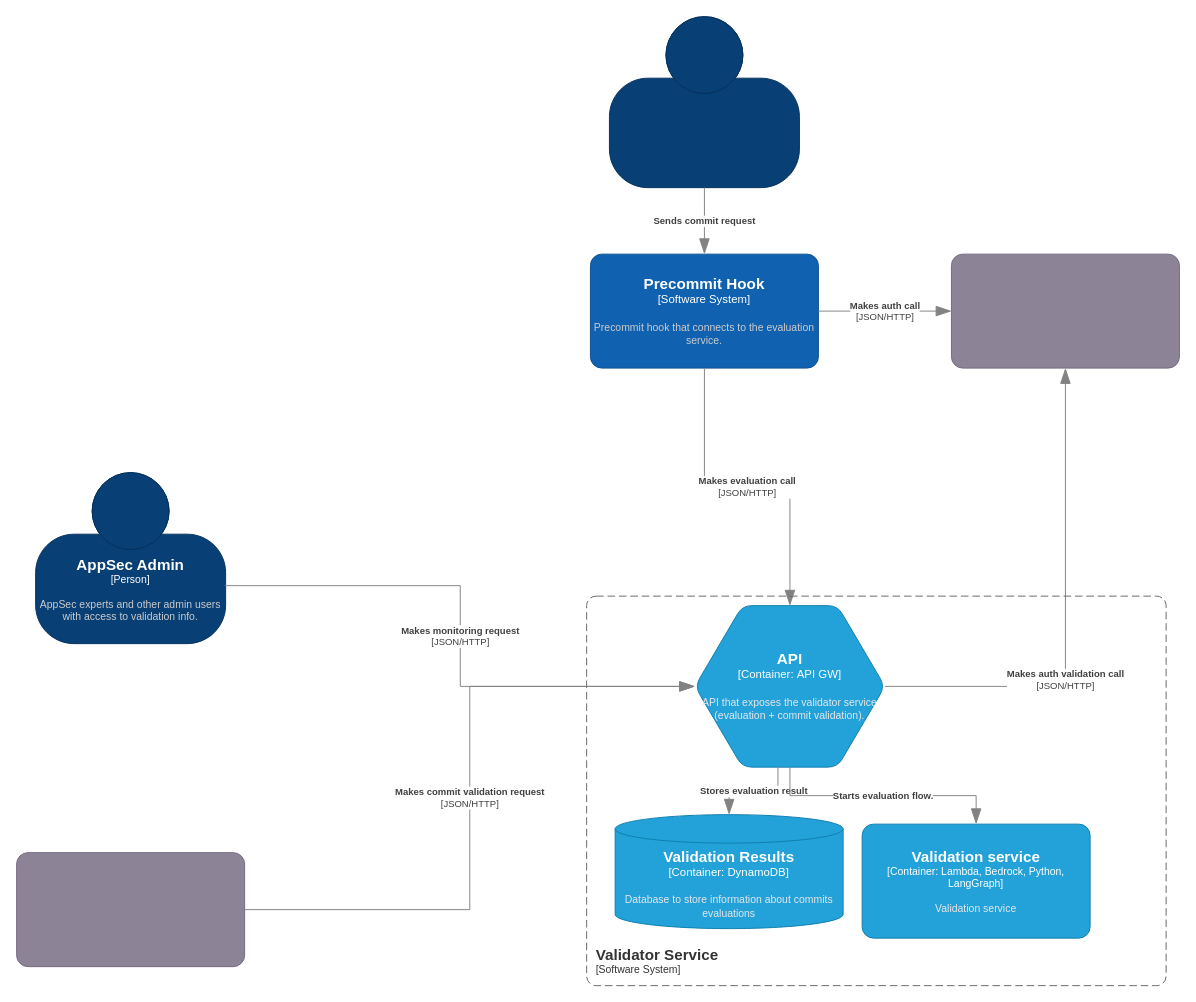
Image size: 1196x1002. Some labels were removed from this diagram. The centre of each missing label's shape, as x and y in pixels:
"Auth Service [Software System] Auth server that supports OAuth 2.0" belongs at point (1064, 310).
"CI Pipeline [Software System] CI Pipeline triggerd after succesful commit." belongs at point (130, 909).
"Developer [Person] Developer" belongs at point (703, 102).
